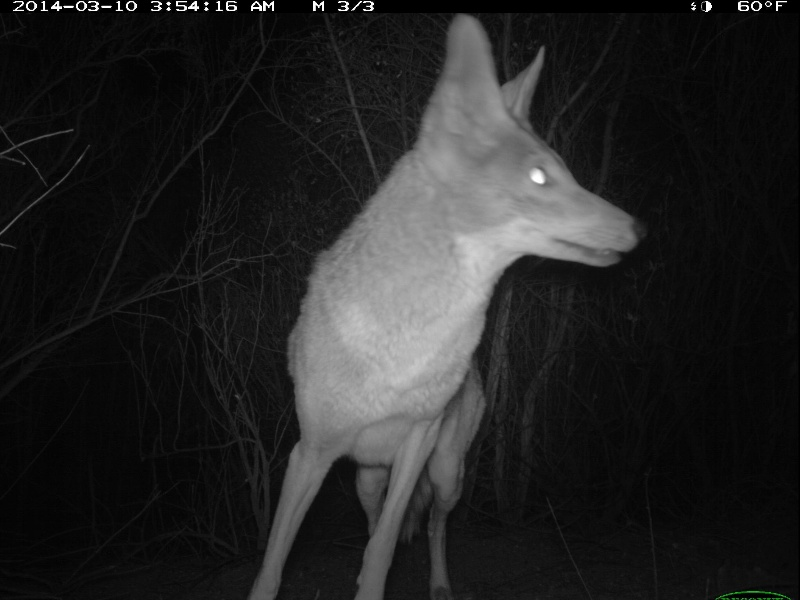coyote: (248, 25, 649, 597)
